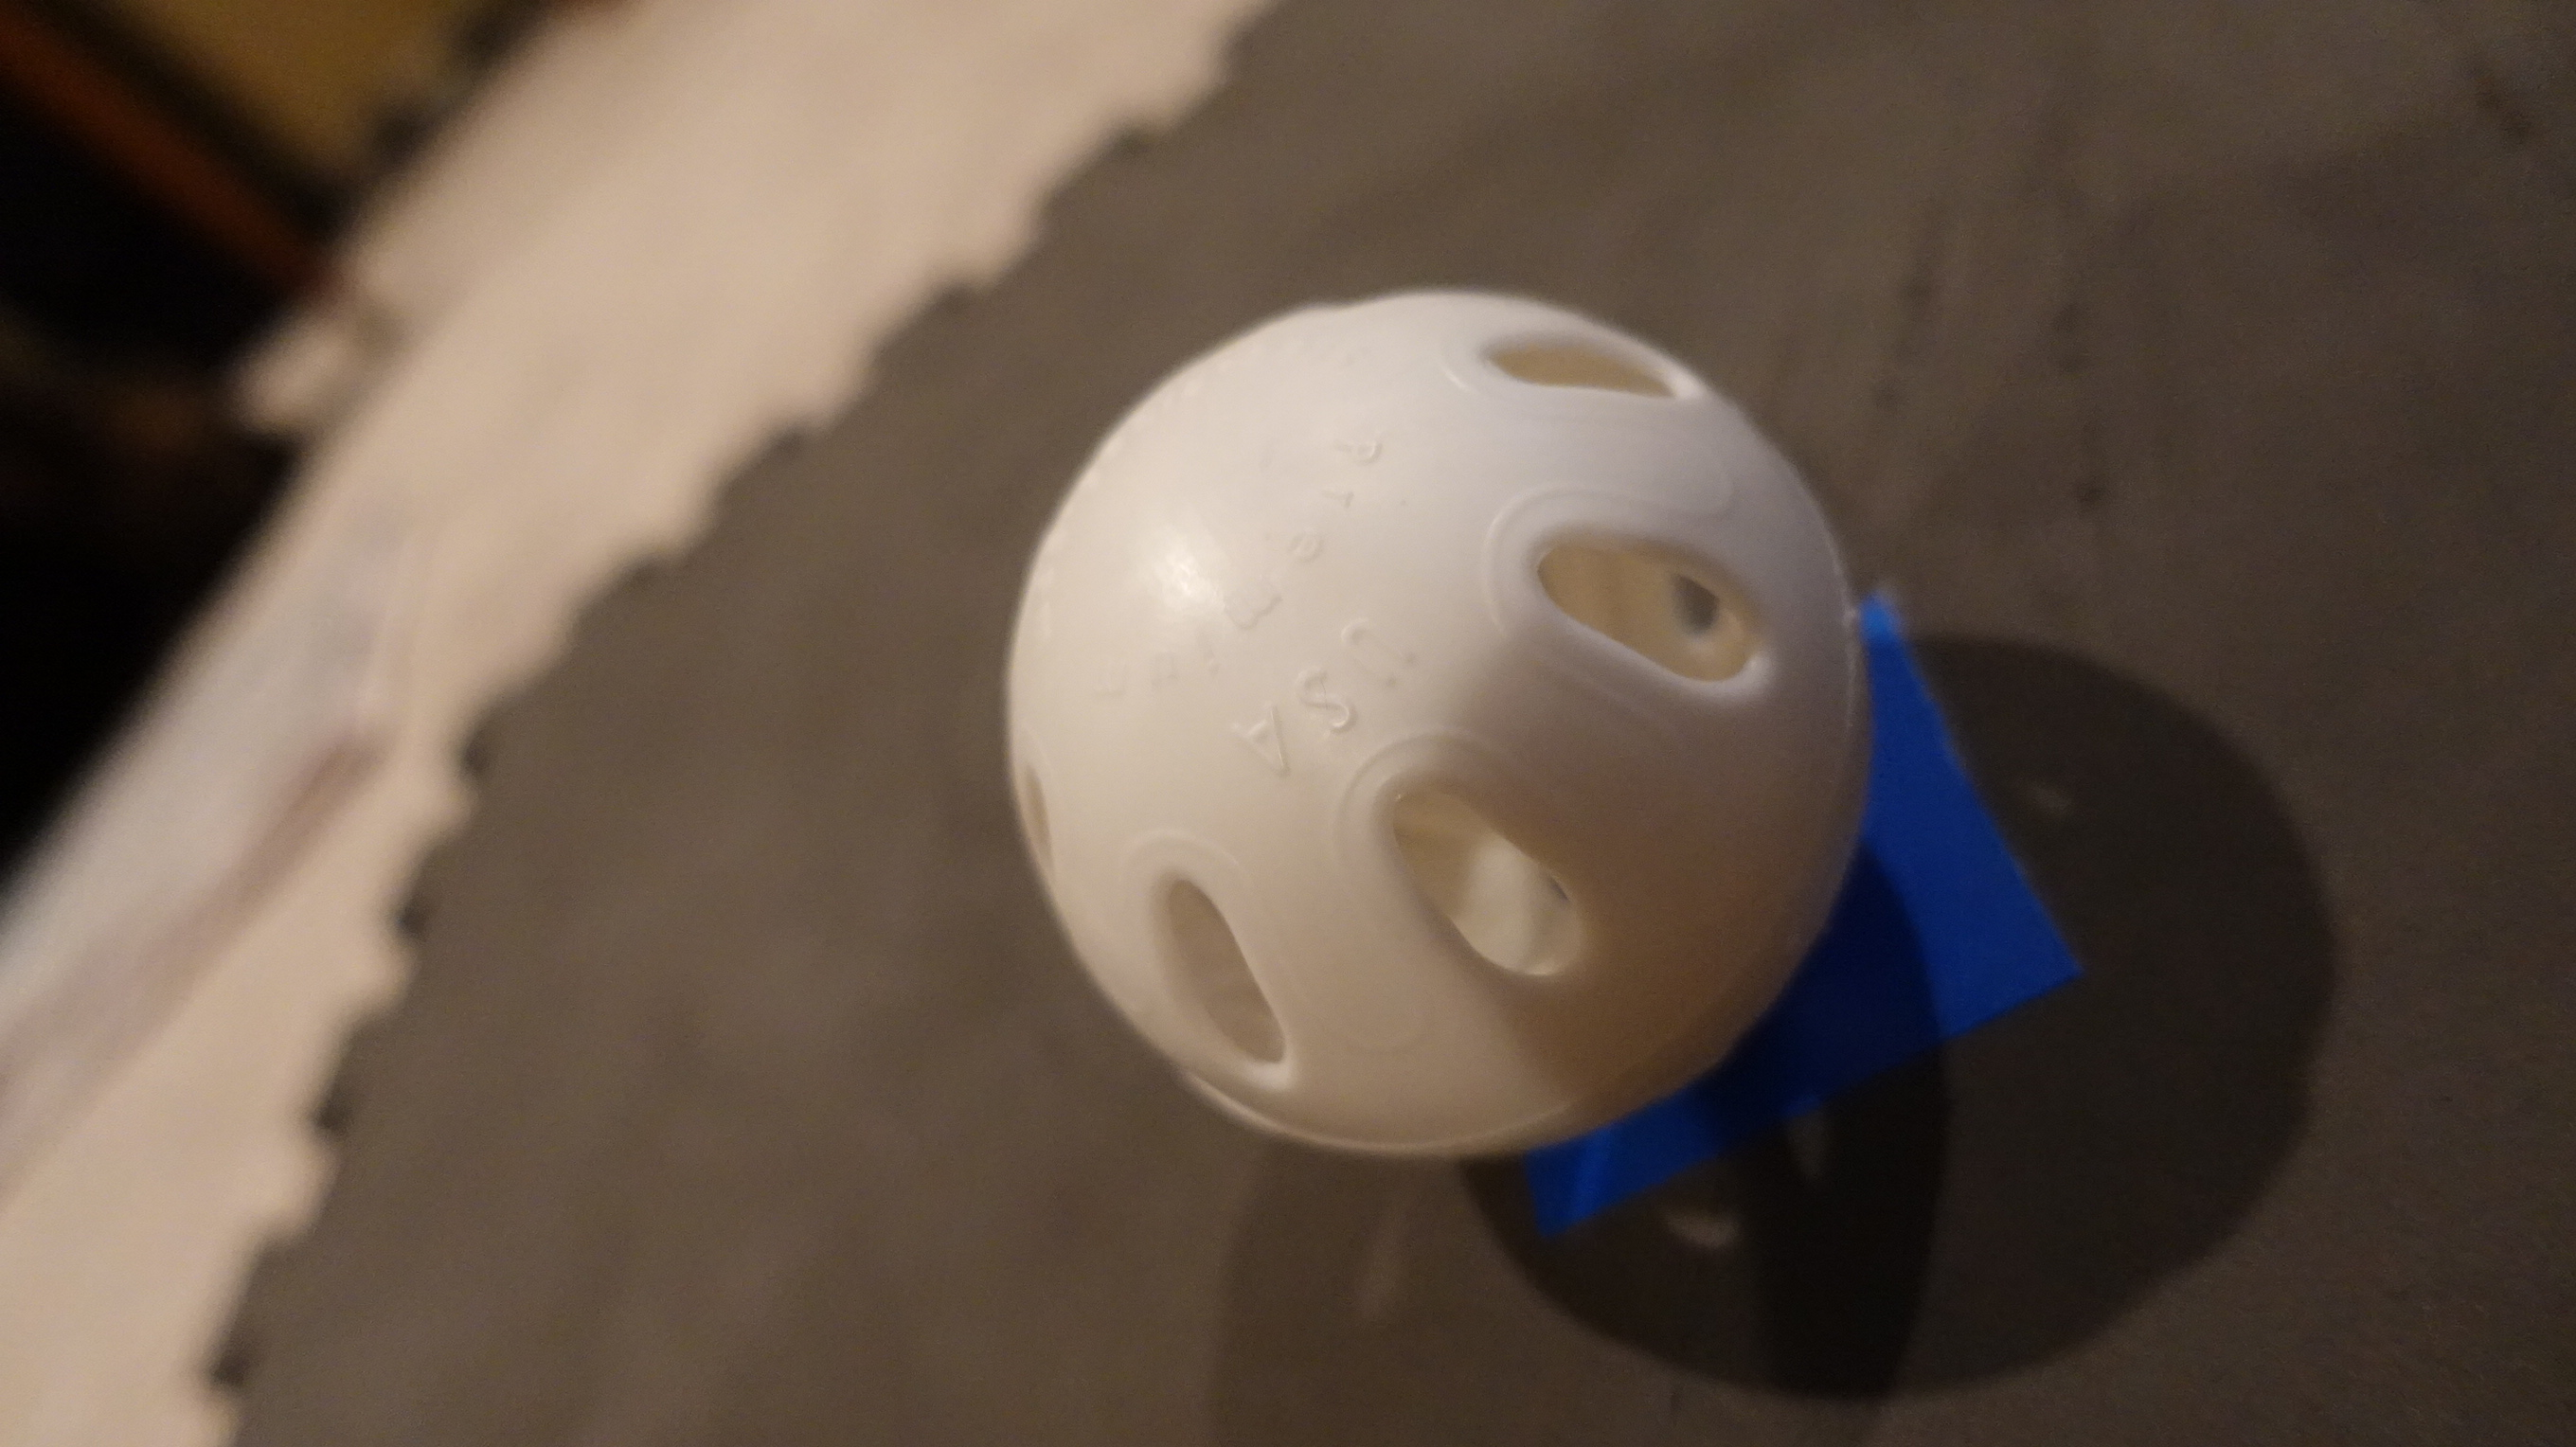silver: (959, 265, 1920, 1189)
